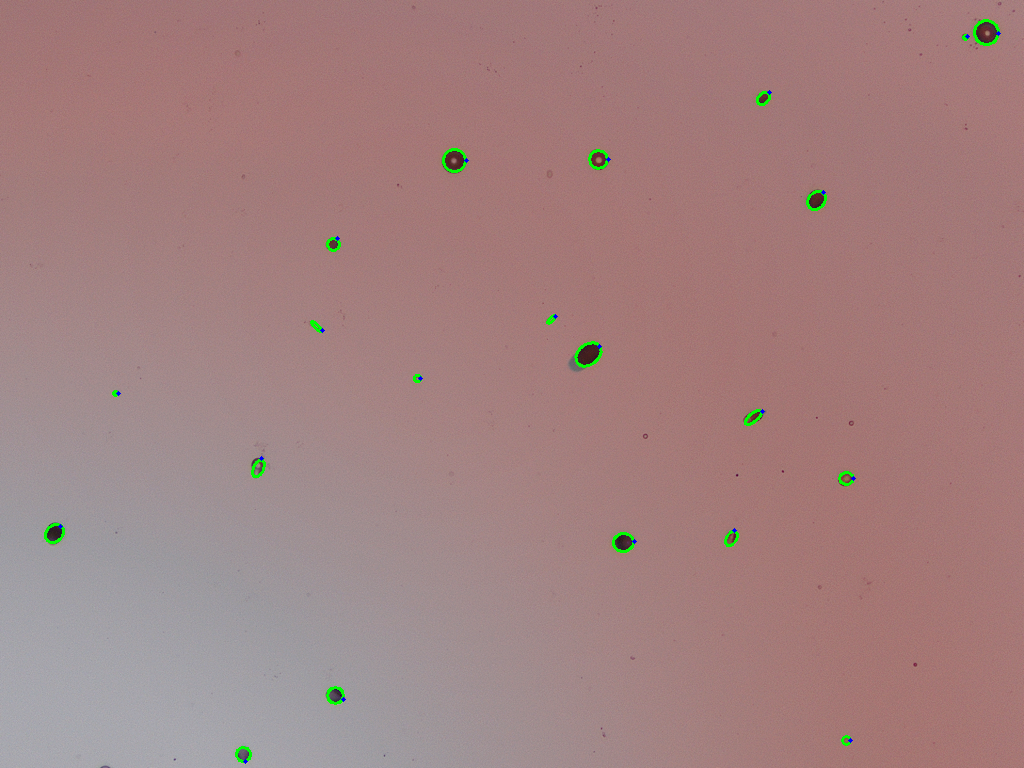circle: (442, 149, 466, 172), (589, 150, 608, 169), (839, 471, 853, 485), (842, 736, 850, 745), (414, 375, 420, 381), (113, 390, 118, 395), (962, 34, 967, 39)
ellipse: (973, 21, 999, 44), (612, 533, 634, 552), (45, 522, 63, 544), (325, 688, 344, 703), (251, 457, 264, 478), (236, 746, 249, 762)
